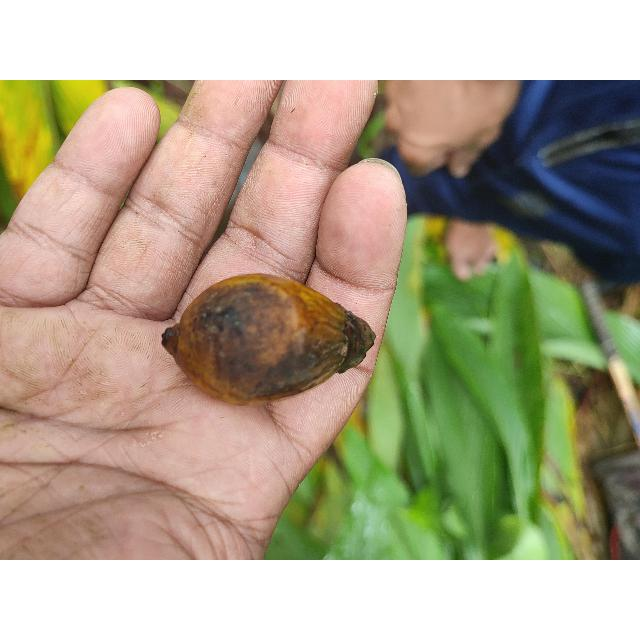damaged: (159, 274, 379, 407)
